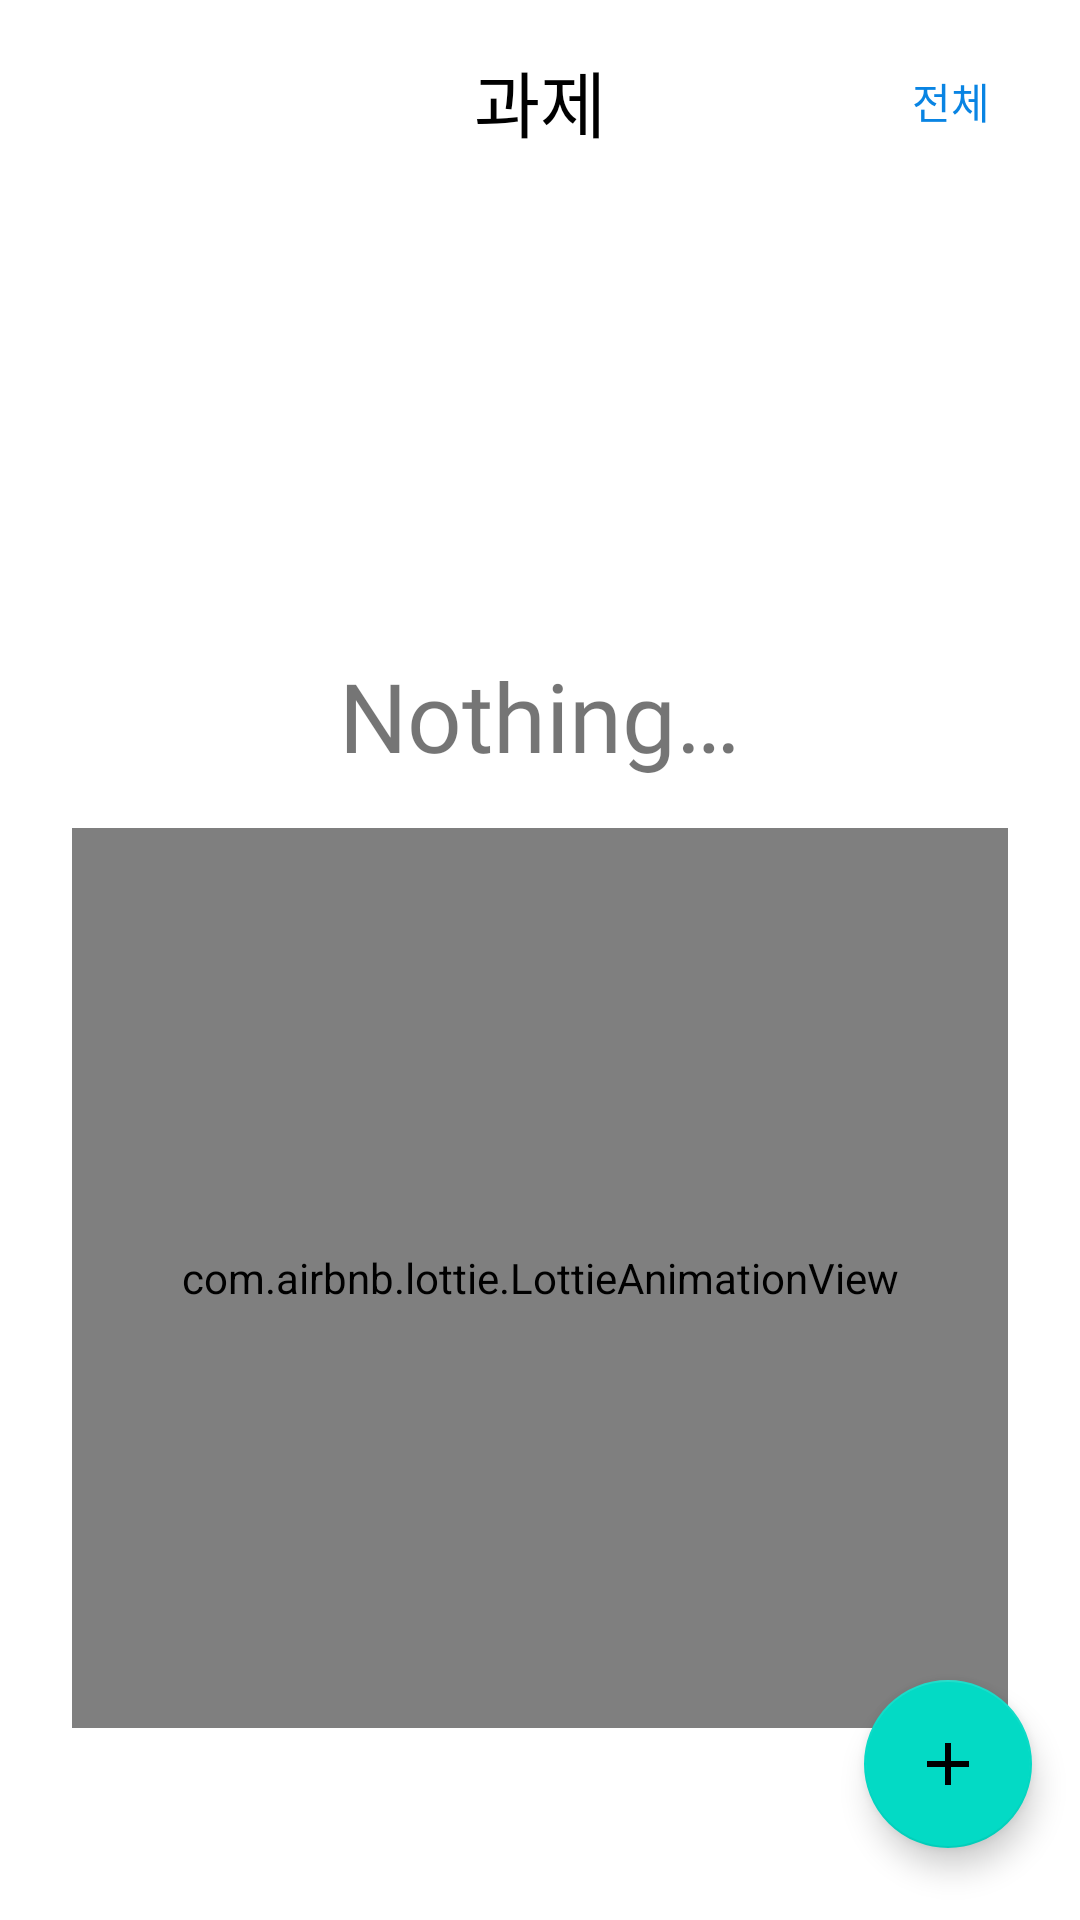

Icons on this 1080 × 1920 Android screen, each with the point to tap as [x,y]:
과제 추가 버튼: [948,1764]
